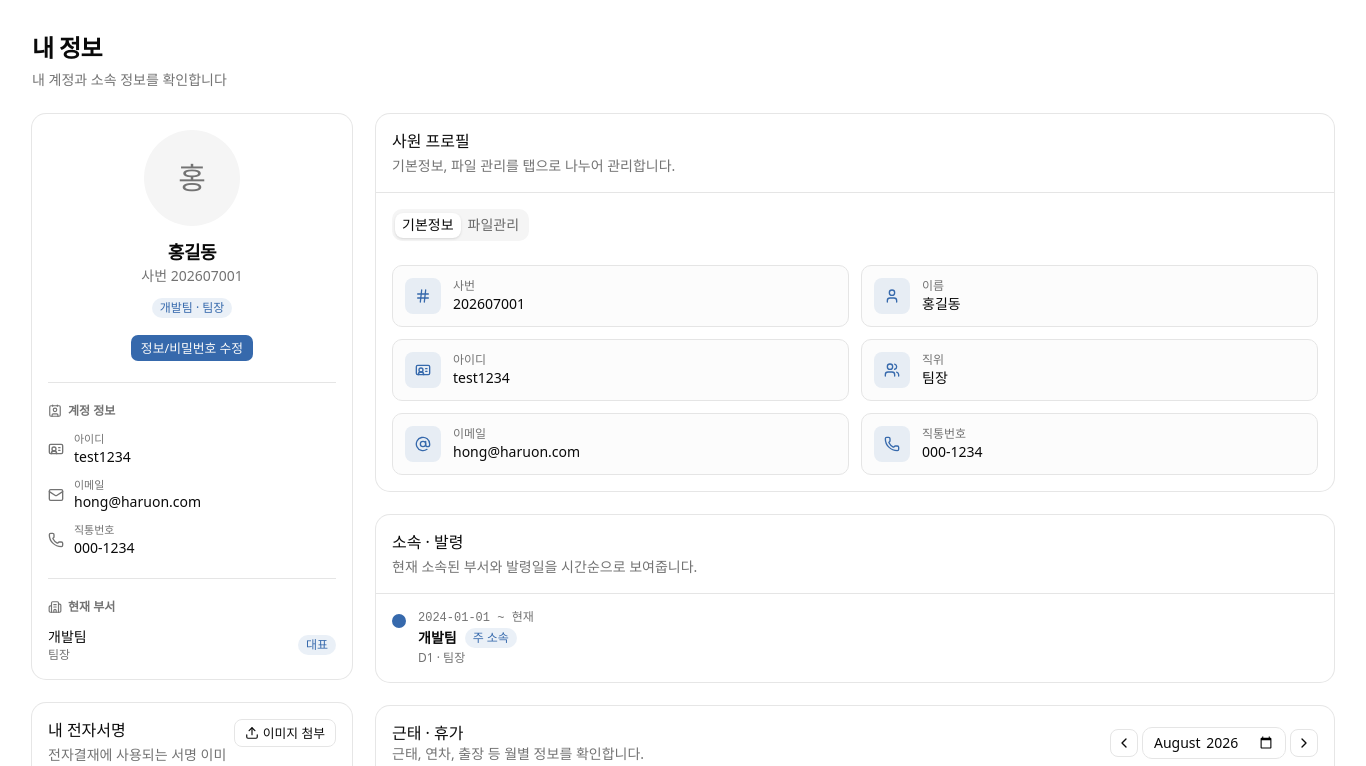
Test: MyInfoPage - 성공 렌더 › 사원 기본정보가 렌더되고 "정보/비밀번호 수정" 버튼 클릭 시 UpdateMeDialog(내 정보 수정)가 열린다
Step 1. Click the button "정보/비밀번호 수정" → (192,348), box [130, 334, 254, 362]
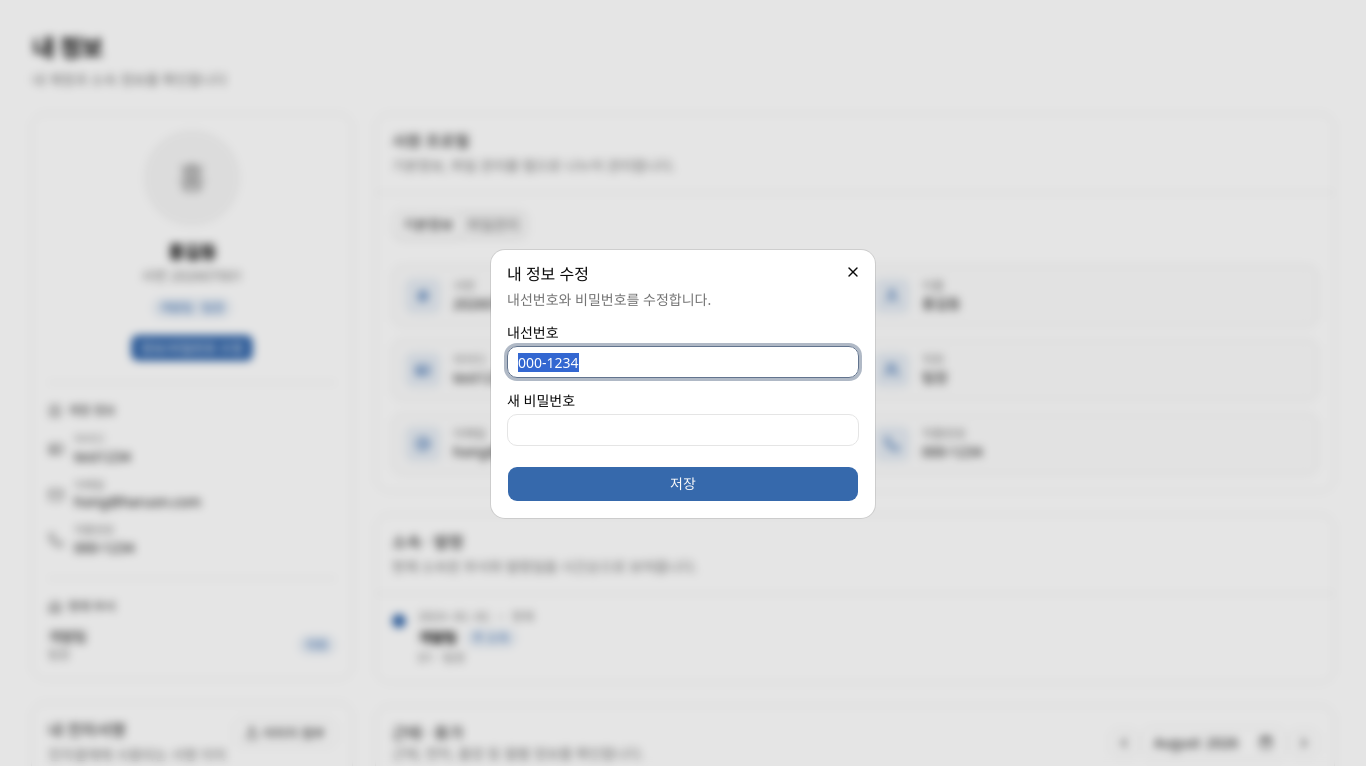
Now the heading "내 정보 수정" is shown, box [507, 263, 589, 285]
Now the field labelled "내선번호" holds "000-1234", box [507, 346, 859, 378]
Now the password field labelled "새 비밀번호" is shown, box [507, 414, 859, 446]
